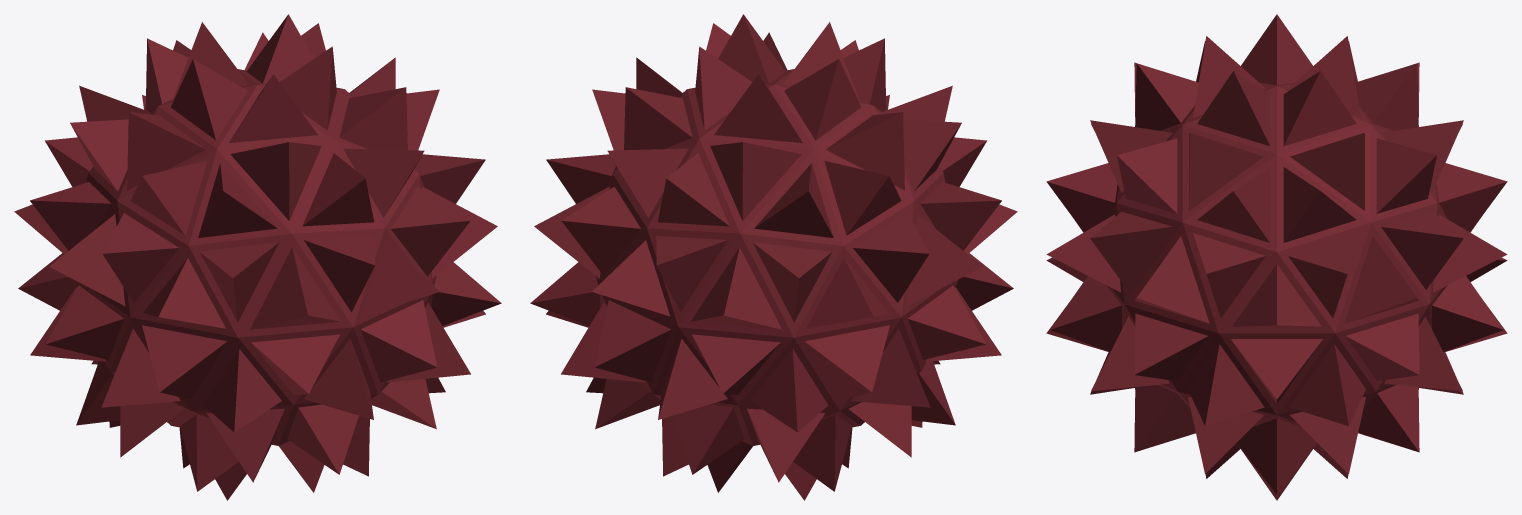
The model's file is spike.fbx.
The picture shows the model from 3 angles, left to right: view 1: azimuth 30°, elevation 25°; view 2: azimuth 150°, elevation 25°; view 3: azimuth 270°, elevation 25°; orthographic projection.
Parts seen in each view (by area): view 1: Icosphere; view 2: Icosphere; view 3: Icosphere.
Part boxes in pixels (x1,y1,x2,y2): Icosphere: [14, 14, 501, 500]; Icosphere: [530, 14, 1017, 500]; Icosphere: [1046, 14, 1507, 500].
Size of the model in its own units: 257 by 248 by 244.
